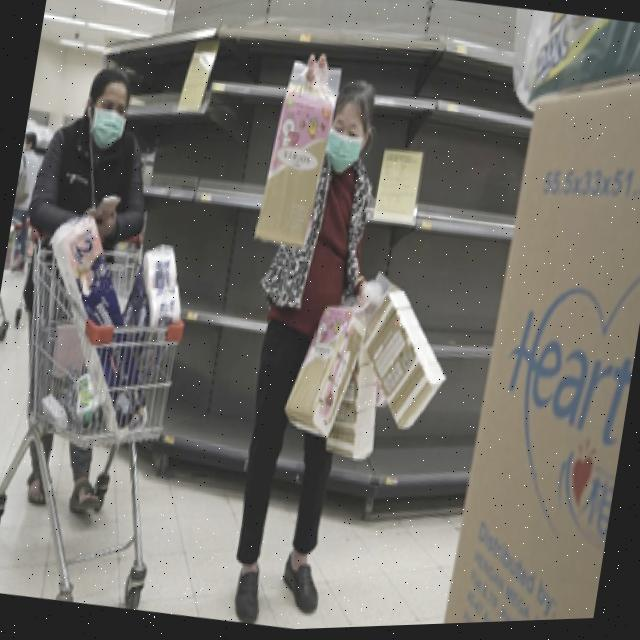Mask: (324, 111, 374, 179), (78, 91, 131, 151)
